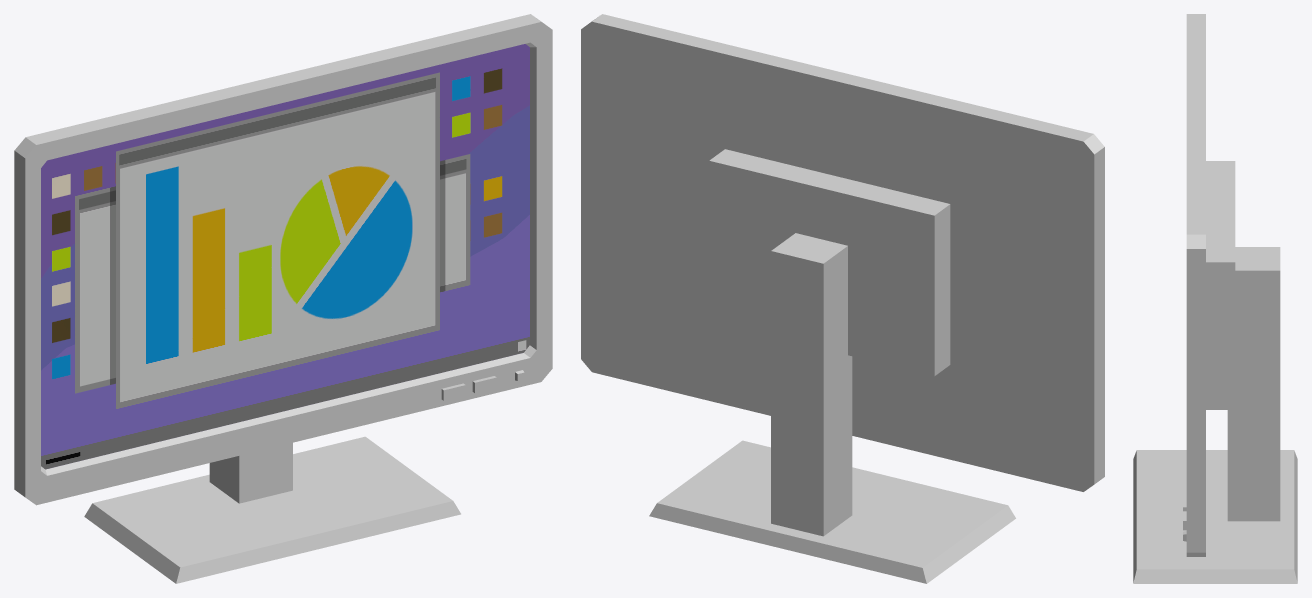
Rendered from SM_Prop_Computer_Monitor_02.obj.
3 renders of one model, left to right at view 1: azimuth 30°, elevation 25°; view 2: azimuth 150°, elevation 25°; view 3: azimuth 270°, elevation 25°, orthographic. The views are drawn at different scales.
Parts seen in each view (by area): view 1: SM_Prop_Computer_Monitor_02_M_PolygonOffice_Screen_02, SM_Prop_Computer_Monitor_02_M_PolygonOffice_01_A; view 2: SM_Prop_Computer_Monitor_02_M_PolygonOffice_01_A; view 3: SM_Prop_Computer_Monitor_02_M_PolygonOffice_01_A.
Boxes of the visible parts, x1,y1,x2,y2 form: SM_Prop_Computer_Monitor_02_M_PolygonOffice_Screen_02: (41, 44, 529, 469); SM_Prop_Computer_Monitor_02_M_PolygonOffice_01_A: (14, 14, 552, 583); SM_Prop_Computer_Monitor_02_M_PolygonOffice_01_A: (581, 14, 1104, 583); SM_Prop_Computer_Monitor_02_M_PolygonOffice_01_A: (1133, 14, 1297, 583).
Size of the model in its own units: 0.711 by 0.5718 by 0.2146.
Materials: 2 (1 with a texture image).
